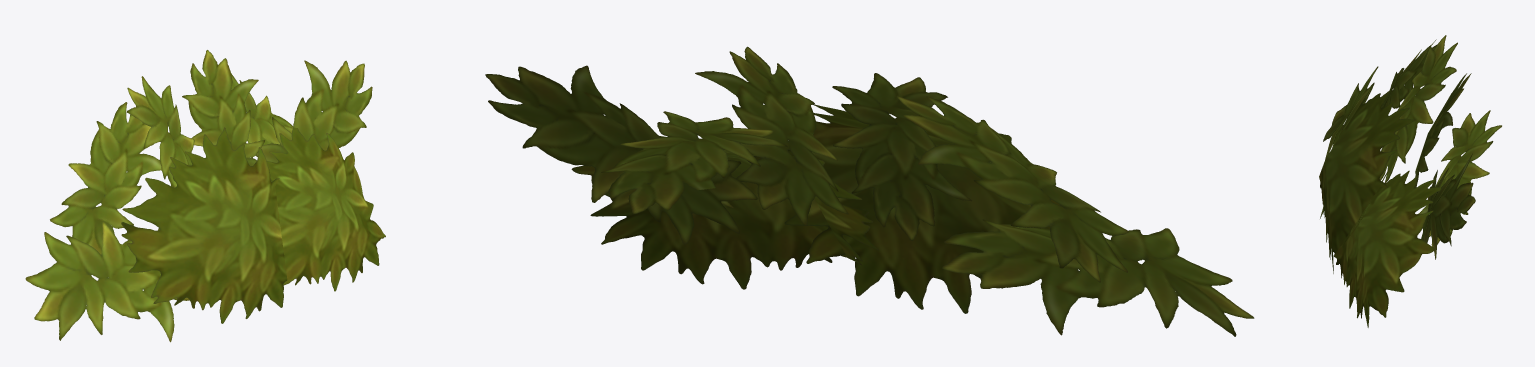
File: grass_03.FBX
3 views of the same model, side by side, from view 1: azimuth 30°, elevation 25°; view 2: azimuth 150°, elevation 25°; view 3: azimuth 270°, elevation 25° (orthographic). The views are drawn at different scales.
Visible parts, largest first — view 1: Object011; view 2: Object011; view 3: Object011.
Part boxes in pixels (x1=…): Object011: x1=25, y1=50, x2=385, y2=342; Object011: x1=485, y1=46, x2=1254, y2=336; Object011: x1=1319, y1=35, x2=1501, y2=327.
Size of the model in its own units: 395 by 197 by 161.
1 material, 1 textured.
